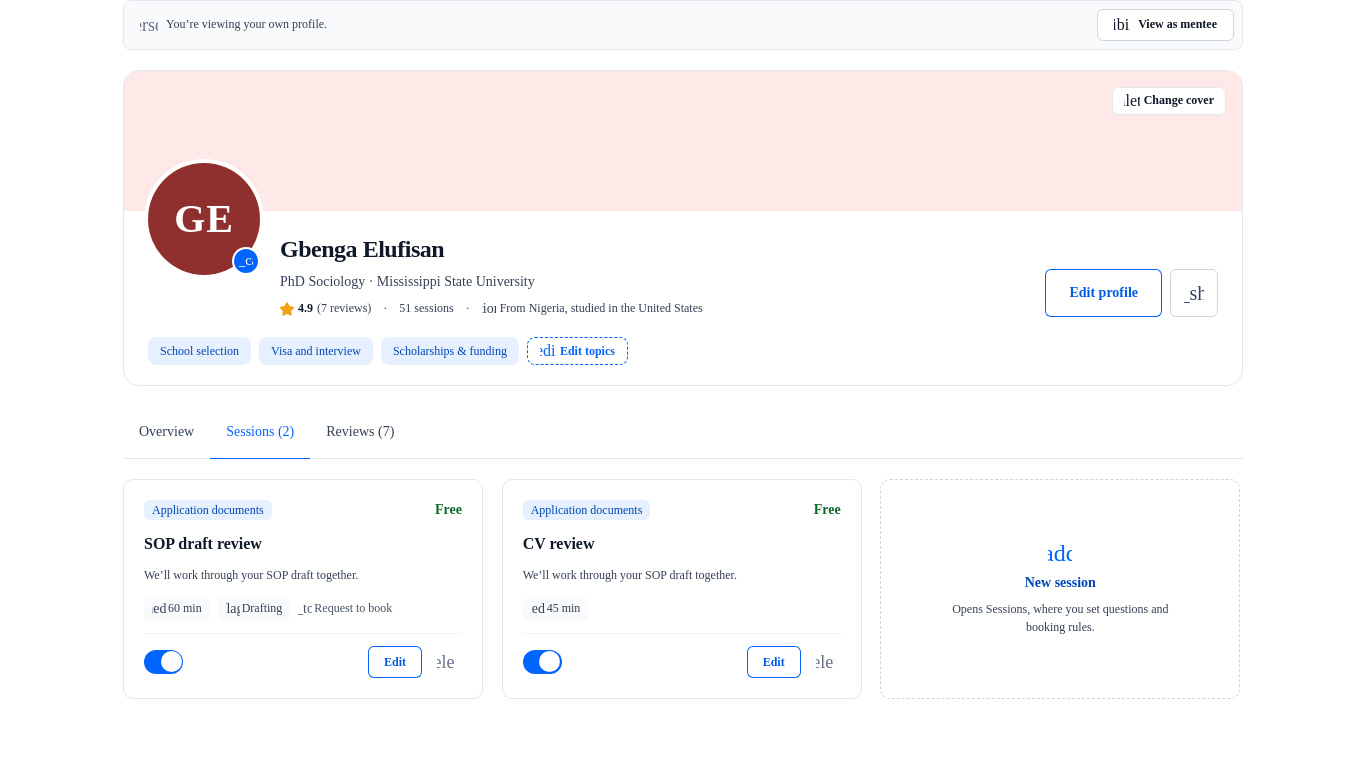
Test case: MentorProfileScreen — the owner’s session types (active only) › "Keep visible" changes nothing
Click the switch named "Visible to mentees: CV review": (542, 662) top-left (523, 650), bottom-right (562, 674)
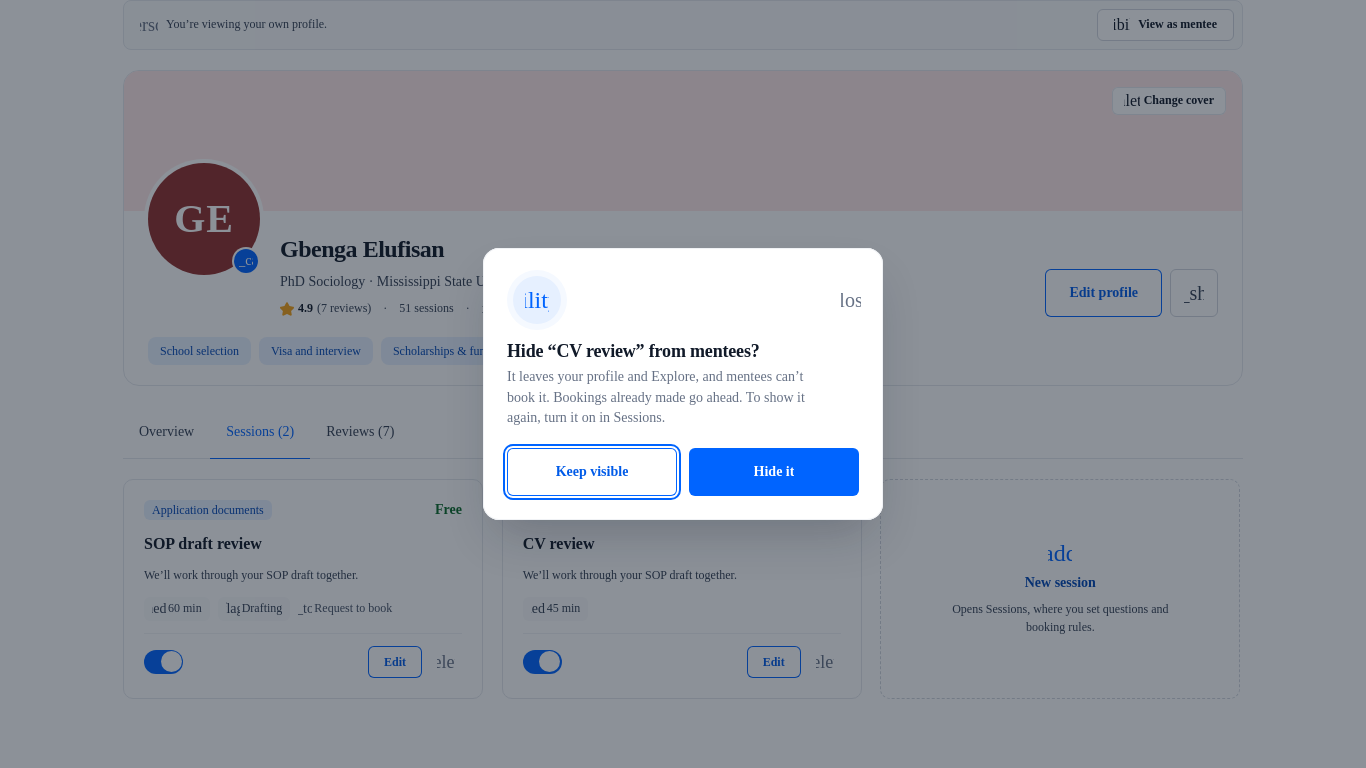
Click the button "Keep visible": (592, 472) top-left (507, 448), bottom-right (677, 496)
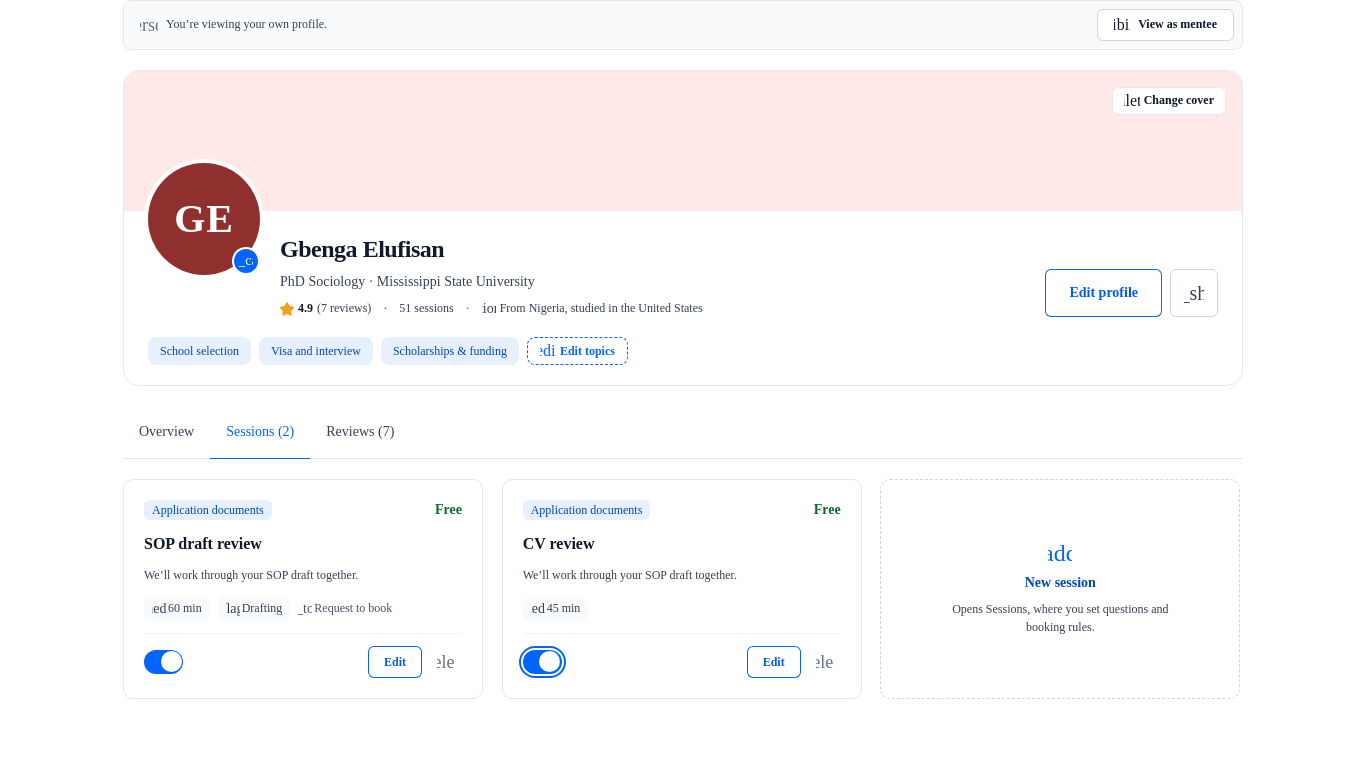
Expected: the dialog is gone
